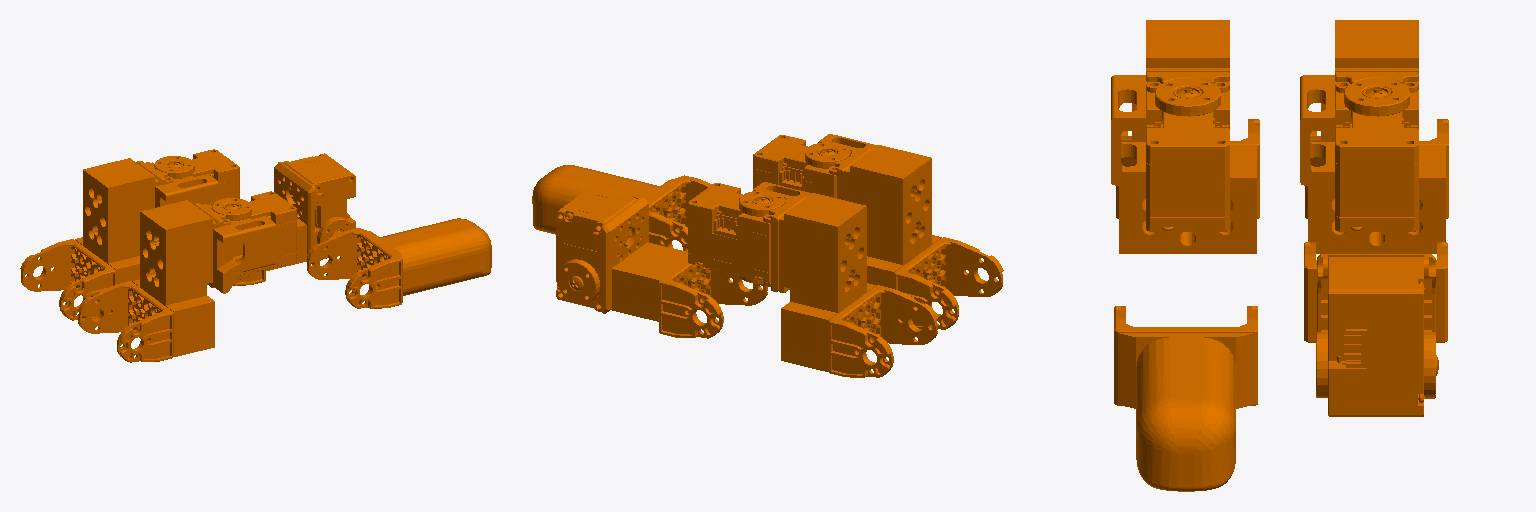
URDF robot description (onshape):
<robot name="onshape">
  <link name="palm_lower">
    <inertial>
      <origin xyz="0.0 0.0 0.0" rpy="0.0 -0.0 0.0"/>
      <mass value="0.237"/>
      <inertia ixx="0.000354094" ixy="-1.193e-06" ixz="-2.445e-06" iyy="0.000260915" iyz="-2.905e-06" izz="0.000529257"/>
    </inertial>
    <visual>
      <geometry>
        <mesh filename="../assets/leap/leap_hand/palm_lower.stl"/>
      </geometry>
      <origin xyz="-0.020095249652862544 0.025757756134899473 -0.034722403578460216" rpy="0.0 -0.0 0.0"/>
      <material name="palm_lower_material">
        <color rgba="0.6039215686274509 0.14901960784313725 0.14901960784313725 1.0"/>
      </material>
    </visual>
    <collision>
      <geometry>
        <mesh filename="../assets/leap/leap_hand/palm_lower.stl"/>
      </geometry>
      <origin xyz="-0.020095249652862544 0.025757756134899473 -0.034722403578460216" rpy="0.0 -0.0 0.0"/>
    </collision>
  </link>
  <link name="mcp_joint_long">
    <inertial>
      <origin xyz="0.0 0.0 0.0" rpy="0.0 -0.0 0.0"/>
      <mass value="0.044"/>
      <inertia ixx="1.1499e-05" ixy="3.049e-06" ixz="1.21e-07" iyy="7.796e-06" iyz="1.12e-07" izz="1.4759e-05"/>
    </inertial>
    <visual>
      <geometry>
        <mesh filename="custom_models/mcp_joint_long.stl"/>
      </geometry>
      <origin xyz="0.008406902261174496 0.0077662438597169954 0.014657354985032912" rpy="1.6375789613221e-15 -1.021047330249102e-30 1.7177968783327987e-31"/>
      <material name="mcp_joint_material">
        <color rgba="0.878 0.467 0.0 1.0"/>
      </material>
    </visual>
    <collision>
      <geometry>
        <mesh filename="custom_models/mcp_joint_long.stl"/>
      </geometry>
      <origin xyz="0.008406902261174496 0.0077662438597169954 0.014657354985032912" rpy="1.6375789613221e-15 -1.021047330249102e-30 1.7177968783327987e-31"/>
    </collision>
  </link>
  <link name="pip">
    <inertial>
      <origin xyz="0.0 0.0 0.0" rpy="0.0 -0.0 0.0"/>
      <mass value="0.032"/>
      <inertia ixx="4.798e-06" ixy="1.2e-08" ixz="4e-09" iyy="2.862e-06" iyz="1.1e-08" izz="4.234e-06"/>
    </inertial>
    <visual>
      <geometry>
        <mesh filename="../assets/leap/leap_hand/pip.stl"/>
      </geometry>
      <origin xyz="0.009643363092271328 0.0002999999999999895 0.0007840340104173765" rpy="-1.5707963267948966 -1.5707963267948963 0.0"/>
      <material name="pip_material">
        <color rgba="0.7490196078431373 0.7490196078431373 0.7490196078431373 1.0"/>
      </material>
    </visual>
    <collision>
      <geometry>
        <mesh filename="../assets/leap/leap_hand/pip.stl"/>
      </geometry>
      <origin xyz="0.009643363092271328 0.0002999999999999895 0.0007840340104173765" rpy="-1.5707963267948966 -1.5707963267948963 0.0"/>
    </collision>
  </link>
  <link name="dip_long">
    <inertial>
      <origin xyz="0.0 0.0 0.0" rpy="0.0 -0.0 0.0"/>
      <mass value="0.037"/>
      <inertia ixx="5.542e-06" ixy="-6.07e-07" ixz="-1.7e-08" iyy="5.727e-06" iyz="-2.3e-08" izz="6.682e-06"/>
    </inertial>
    <visual>
      <geometry>
        <mesh filename="custom_models/dip_long.stl"/>
      </geometry>
      <origin xyz="0.021133352895225003 -0.00843211914670488 0.00978508816209524" rpy="-3.141592653589793 4.507511124216441e-32 4.439548105392361e-32"/>
      <material name="dip_material">
        <color rgba="0.878 0.467 0.0 1.0"/>
      </material>
    </visual>
    <collision>
      <geometry>
        <mesh filename="custom_models/dip_long.stl"/>
      </geometry>
      <origin xyz="0.021133352895225003 -0.00843211914670488 0.00978508816209524" rpy="-3.141592653589793 4.507511124216441e-32 4.439548105392361e-32"/>
    </collision>
  </link>
  <link name="fingertip">
    <inertial>
      <origin xyz="0.0 0.0 0.0" rpy="0.0 -0.0 0.0"/>
      <mass value="0.016"/>
      <inertia ixx="3.368e-06" ixy="1.15e-07" ixz="0.0" iyy="1.556e-06" iyz="0.0" izz="2.863e-06"/>
    </inertial>
    <visual>
      <geometry>
        <mesh filename="../assets/leap/leap_hand/fingertip.stl"/>
      </geometry>
      <origin xyz="0.013286424108533503 -0.006114238386541987 0.014499999999999498" rpy="3.141592653589793 1.1993117970061735e-33 4.439548105392361e-32"/>
      <material name="fingertip_material">
        <color rgba="0.8666666666666667 0.8666666666666667 0.050980392156862744 1.0"/>
      </material>
    </visual>
    <collision>
      <geometry>
        <mesh filename="../assets/leap/leap_hand/fingertip.stl"/>
      </geometry>
      <origin xyz="0.013286424108533503 -0.006114238386541987 0.014499999999999498" rpy="3.141592653589793 1.1993117970061735e-33 4.439548105392361e-32"/>
    </collision>
  </link>
  <link name="pip_4">
    <inertial>
      <origin xyz="0.0 0.0 0.0" rpy="0.0 -0.0 0.0"/>
      <mass value="0.032"/>
      <inertia ixx="4.798e-06" ixy="1.2e-08" ixz="4e-09" iyy="2.862e-06" iyz="1.1e-08" izz="4.234e-06"/>
    </inertial>
    <visual>
      <geometry>
        <mesh filename="../assets/leap/leap_hand/pip.stl"/>
      </geometry>
      <origin xyz="-0.005356636907728671 0.0002999999999999999 0.0007840340104173782" rpy="-1.5707963267948966 -1.5707963267948963 0.0"/>
      <material name="pip_material">
        <color rgba="0.7490196078431373 0.7490196078431373 0.7490196078431373 1.0"/>
      </material>
    </visual>
    <collision>
      <geometry>
        <mesh filename="../assets/leap/leap_hand/pip.stl"/>
      </geometry>
      <origin xyz="-0.005356636907728671 0.0002999999999999999 0.0007840340104173782" rpy="-1.5707963267948966 -1.5707963267948963 0.0"/>
    </collision>
  </link>
  <link name="thumb_pip">
    <inertial>
      <origin xyz="0.0 0.0 0.0" rpy="0.0 -0.0 0.0"/>
      <mass value="0.003"/>
      <inertia ixx="5.93e-07" ixy="0.0" ixz="0.0" iyy="5.49e-07" iyz="0.0" izz="2.24e-07"/>
    </inertial>
    <visual>
      <geometry>
        <mesh filename="../assets/leap/leap_hand/thumb_pip.stl"/>
      </geometry>
      <origin xyz="0.011961920770611187 -5.30825383648903e-16 -0.0158526489566642" rpy="1.5707963267948966 1.6050198443300153e-46 -3.9204996250525193e-59"/>
      <material name="thumb_pip_material">
        <color rgba="0.8666666666666667 0.8666666666666667 0.050980392156862744 1.0"/>
      </material>
    </visual>
    <collision>
      <geometry>
        <mesh filename="../assets/leap/leap_hand/thumb_pip.stl"/>
      </geometry>
      <origin xyz="0.011961920770611187 -5.30825383648903e-16 -0.0158526489566642" rpy="1.5707963267948966 1.6050198443300153e-46 -3.9204996250525193e-59"/>
    </collision>
  </link>
  <link name="thumb_dip">
    <inertial>
      <origin xyz="0.0 0.0 0.0" rpy="0.0 -0.0 0.0"/>
      <mass value="0.038"/>
      <inertia ixx="8.474e-06" ixy="2.41e-07" ixz="2.6e-08" iyy="3.841e-06" iyz="2.5e-08" izz="7.679e-06"/>
    </inertial>
    <visual>
      <geometry>
        <mesh filename="../assets/leap/leap_hand/thumb_dip.stl"/>
      </geometry>
      <origin xyz="0.043968715707239175 0.0579529529737092 -0.008628676449369476" rpy="1.94289029309401e-16 3.27515792264422e-15 1.112375852965736e-46"/>
      <material name="thumb_dip_material">
        <color rgba="0.8666666666666667 0.8666666666666667 0.050980392156862744 1.0"/>
      </material>
    </visual>
    <collision>
      <geometry>
        <mesh filename="../assets/leap/leap_hand/thumb_dip.stl"/>
      </geometry>
      <origin xyz="0.043968715707239175 0.0579529529737092 -0.008628676449369476" rpy="1.94289029309401e-16 3.27515792264422e-15 1.112375852965736e-46"/>
    </collision>
  </link>
  <link name="thumb_fingertip">
    <inertial>
      <origin xyz="0.0 0.0 0.0" rpy="0.0 -0.0 0.0"/>
      <mass value="0.049"/>
      <inertia ixx="2.0372e-05" ixy="-4.89e-07" ixz="-3e-08" iyy="4.336e-06" iyz="-9.7e-08" izz="1.9845e-05"/>
    </inertial>
    <visual>
      <geometry>
        <mesh filename="../assets/leap/leap_hand/thumb_fingertip.stl"/>
      </geometry>
      <origin xyz="0.06255953846266739 0.07845968291139699 0.048992911807332215" rpy="4.379057701015637e-47 -3.33066907387547e-16 1.2042408677791935e-46"/>
      <material name="thumb_fingertip_material">
        <color rgba="0.6039215686274509 0.14901960784313725 0.14901960784313725 1.0"/>
      </material>
    </visual>
    <collision>
      <geometry>
        <mesh filename="../assets/leap/leap_hand/thumb_fingertip.stl"/>
      </geometry>
      <origin xyz="0.06255953846266739 0.07845968291139699 0.048992911807332215" rpy="4.379057701015637e-47 -3.33066907387547e-16 1.2042408677791935e-46"/>
    </collision>
  </link>
  <link name="mcp_joint_2_long">
    <inertial>
      <origin xyz="0.0 0.0 0.0" rpy="0.0 -0.0 0.0"/>
      <mass value="0.044"/>
      <inertia ixx="1.1499e-05" ixy="3.049e-06" ixz="1.21e-07" iyy="7.796e-06" iyz="1.12e-07" izz="1.4759e-05"/>
    </inertial>
    <visual>
      <geometry>
        <mesh filename="custom_models/mcp_joint_long.stl"/>
      </geometry>
      <origin xyz="0.008406902261174496 0.0077662438597169954 0.014657354985032914" rpy="1.6375789613221e-15 -1.0076465469034e-30 2.1209300131419907e-61"/>
      <material name="mcp_joint_material">
        <color rgba="0.878 0.467 0.0 1.0"/>
      </material>
    </visual>
    <collision>
      <geometry>
        <mesh filename="custom_models/mcp_joint_long.stl"/>
      </geometry>
      <origin xyz="0.008406902261174496 0.0077662438597169954 0.014657354985032914" rpy="1.6375789613221e-15 -1.0076465469034e-30 2.1209300131419907e-61"/>
    </collision>
  </link>
  <link name="pip_2">
    <inertial>
      <origin xyz="0.0 0.0 0.0" rpy="0.0 -0.0 0.0"/>
      <mass value="0.032"/>
      <inertia ixx="4.798e-06" ixy="1.2e-08" ixz="4e-09" iyy="2.862e-06" iyz="1.1e-08" izz="4.234e-06"/>
    </inertial>
    <visual>
      <geometry>
        <mesh filename="../assets/leap/leap_hand/pip.stl"/>
      </geometry>
      <origin xyz="0.009643363092271328 0.0002999999999999947 0.0007840340104173765" rpy="-1.5707963267948966 -1.5707963267948963 0.0"/>
      <material name="pip_material">
        <color rgba="0.7490196078431373 0.7490196078431373 0.7490196078431373 1.0"/>
      </material>
    </visual>
    <collision>
      <geometry>
        <mesh filename="../assets/leap/leap_hand/pip.stl"/>
      </geometry>
      <origin xyz="0.009643363092271328 0.0002999999999999947 0.0007840340104173765" rpy="-1.5707963267948966 -1.5707963267948963 0.0"/>
    </collision>
  </link>
  <link name="dip_2">
    <inertial>
      <origin xyz="0.0 0.0 0.0" rpy="0.0 -0.0 0.0"/>
      <mass value="0.037"/>
      <inertia ixx="5.542e-06" ixy="-6.07e-07" ixz="-1.7e-08" iyy="5.727e-06" iyz="-2.3e-08" izz="6.682e-06"/>
    </inertial>
    <visual>
      <geometry>
        <mesh filename="../assets/leap/leap_hand/dip.stl"/>
      </geometry>
      <origin xyz="0.021133352895225003 -0.008432119146704865 0.009785088162095237" rpy="-3.141592653589793 2.1146933785271956e-32 1.4408183216511869e-31"/>
      <material name="dip_material">
        <color rgba="0.8666666666666667 0.8666666666666667 0.050980392156862744 1.0"/>
      </material>
    </visual>
    <collision>
      <geometry>
        <mesh filename="../assets/leap/leap_hand/dip.stl"/>
      </geometry>
      <origin xyz="0.021133352895225003 -0.008432119146704865 0.009785088162095237" rpy="-3.141592653589793 2.1146933785271956e-32 1.4408183216511869e-31"/>
    </collision>
  </link>
  <link name="fingertip_2_long">
    <inertial>
      <origin xyz="0.0 0.0 0.0" rpy="0.0 -0.0 0.0"/>
      <mass value="0.016"/>
      <inertia ixx="3.368e-06" ixy="1.15e-07" ixz="0.0" iyy="1.556e-06" iyz="0.0" izz="2.863e-06"/>
    </inertial>
    <visual>
      <geometry>
        <mesh filename="custom_models/fingertip_long.stl"/>
      </geometry>
      <origin xyz="0.013286424108533496 -0.006114238386542001 0.014499999999999496" rpy="3.141592653589793 -4.317959788283594e-33 1.4408183216511869e-31"/>
      <material name="fingertip_material">
        <color rgba="0.878 0.467 0.0 1.0"/>
      </material>
    </visual>
    <collision>
      <geometry>
        <mesh filename="custom_models/fingertip_long.stl"/>
      </geometry>
      <origin xyz="0.013286424108533496 -0.006114238386542001 0.014499999999999496" rpy="3.141592653589793 -4.317959788283594e-33 1.4408183216511869e-31"/>
    </collision>
  </link>
  <link name="mcp_joint_3">
    <inertial>
      <origin xyz="0.0 0.0 0.0" rpy="0.0 -0.0 0.0"/>
      <mass value="0.044"/>
      <inertia ixx="1.1499e-05" ixy="3.049e-06" ixz="1.21e-07" iyy="7.796e-06" iyz="1.12e-07" izz="1.4759e-05"/>
    </inertial>
    <visual>
      <geometry>
        <mesh filename="../assets/leap/leap_hand/mcp_joint.stl"/>
      </geometry>
      <origin xyz="0.0084069022611745 0.007766243859716996 0.014657354985032914" rpy="1.6375789613221e-15 -1.0059504988632627e-30 5.729641584552035e-32"/>
      <material name="mcp_joint_material">
        <color rgba="0.8666666666666667 0.8666666666666667 0.050980392156862744 1.0"/>
      </material>
    </visual>
    <collision>
      <geometry>
        <mesh filename="../assets/leap/leap_hand/mcp_joint.stl"/>
      </geometry>
      <origin xyz="0.0084069022611745 0.007766243859716996 0.014657354985032914" rpy="1.6375789613221e-15 -1.0059504988632627e-30 5.729641584552035e-32"/>
    </collision>
  </link>
  <link name="pip_3">
    <inertial>
      <origin xyz="0.0 0.0 0.0" rpy="0.0 -0.0 0.0"/>
      <mass value="0.032"/>
      <inertia ixx="4.798e-06" ixy="1.2e-08" ixz="4e-09" iyy="2.862e-06" iyz="1.1e-08" izz="4.234e-06"/>
    </inertial>
    <visual>
      <geometry>
        <mesh filename="../assets/leap/leap_hand/pip.stl"/>
      </geometry>
      <origin xyz="0.009643363092271331 0.00029999999999998084 0.0007840340104173765" rpy="-1.5707963267948966 -1.5707963267948963 0.0"/>
      <material name="pip_material">
        <color rgba="0.7490196078431373 0.7490196078431373 0.7490196078431373 1.0"/>
      </material>
    </visual>
    <collision>
      <geometry>
        <mesh filename="../assets/leap/leap_hand/pip.stl"/>
      </geometry>
      <origin xyz="0.009643363092271331 0.00029999999999998084 0.0007840340104173765" rpy="-1.5707963267948966 -1.5707963267948963 0.0"/>
    </collision>
  </link>
  <link name="dip_3">
    <inertial>
      <origin xyz="0.0 0.0 0.0" rpy="0.0 -0.0 0.0"/>
      <mass value="0.037"/>
      <inertia ixx="5.542e-06" ixy="-6.07e-07" ixz="-1.7e-08" iyy="5.727e-06" iyz="-2.3e-08" izz="6.682e-06"/>
    </inertial>
    <visual>
      <geometry>
        <mesh filename="../assets/leap/leap_hand/dip.stl"/>
      </geometry>
      <origin xyz="0.021133352895225006 -0.008432119146704865 0.009785088162095237" rpy="-3.141592653589793 -1.4095651113919093e-33 1.5565411607615035e-32"/>
      <material name="dip_material">
        <color rgba="0.8666666666666667 0.8666666666666667 0.050980392156862744 1.0"/>
      </material>
    </visual>
    <collision>
      <geometry>
        <mesh filename="../assets/leap/leap_hand/dip.stl"/>
      </geometry>
      <origin xyz="0.021133352895225006 -0.008432119146704865 0.009785088162095237" rpy="-3.141592653589793 -1.4095651113919093e-33 1.5565411607615035e-32"/>
    </collision>
  </link>
  <link name="fingertip_3">
    <inertial>
      <origin xyz="0.0 0.0 0.0" rpy="0.0 -0.0 0.0"/>
      <mass value="0.016"/>
      <inertia ixx="3.368e-06" ixy="1.15e-07" ixz="0.0" iyy="1.556e-06" iyz="0.0" izz="2.863e-06"/>
    </inertial>
    <visual>
      <geometry>
        <mesh filename="../assets/leap/leap_hand/fingertip.stl"/>
      </geometry>
      <origin xyz="0.013286424108533501 -0.006114238386541987 0.0144999999999995" rpy="3.141592653589793 8.61707169505754e-33 1.5565411607615035e-32"/>
      <material name="fingertip_material">
        <color rgba="0.8666666666666667 0.8666666666666667 0.050980392156862744 1.0"/>
      </material>
    </visual>
    <collision>
      <geometry>
        <mesh filename="../assets/leap/leap_hand/fingertip.stl"/>
      </geometry>
      <origin xyz="0.013286424108533501 -0.006114238386541987 0.0144999999999995" rpy="3.141592653589793 8.61707169505754e-33 1.5565411607615035e-32"/>
    </collision>
  </link>
  <joint name="1" type="revolute">
    <parent link="palm_lower"/>
    <child link="mcp_joint_long"/>
    <origin xyz="-0.007095249652862546 0.023057756134899472 -0.01872240357846022" rpy="1.570796326794895 1.5707963267948946 0.0"/>
    <axis xyz="0.0 0.0 -1.0"/>
    <limit effort="0.95" velocity="8.48" lower="-0.314" upper="2.23"/>
  </joint>
  <joint name="0" type="revolute">
    <parent link="mcp_joint_long"/>
    <child link="pip"/>
    <origin xyz="-0.012200000000000007713 0.053099999999999994982 0.014500000000000000736" rpy="-1.5707963267948966 -1.0065212660796337e-15 1.5707963267948943"/>
    <axis xyz="0.0 0.0 -1.0"/>
    <limit effort="0.95" velocity="8.48" lower="-1.047" upper="1.047"/>
  </joint>
  <joint name="2" type="revolute">
    <parent link="pip"/>
    <child link="dip_long"/>
    <origin xyz="0.014999999999999968 0.014299999999999905 -0.012999999999999824" rpy="1.570796326794896 -1.5707963267948963 0.0"/>
    <axis xyz="0.0 0.0 -1.0"/>
    <limit effort="0.95" velocity="8.48" lower="-0.506" upper="1.885"/>
  </joint>
  <joint name="3" type="revolute">
    <parent link="dip_long"/>
    <child link="fingertip"/>
    <origin xyz="-4.0880582495572692636e-09 -0.051100004210367367397 0.00020000000000007858714" rpy="4.5935029425113685e-17 -2.8730071914463795e-16 4.439548105392361e-32"/>
    <axis xyz="0.0 0.0 -1.0"/>
    <limit effort="0.95" velocity="8.48" lower="-0.366" upper="2.042"/>
  </joint>
  <joint name="12" type="revolute">
    <parent link="palm_lower"/>
    <child link="pip_4"/>
    <origin xyz="-0.06939524965286253 -0.0012422438651005258 -0.021622403578460216" rpy="-8.238176646493942e-17 1.5707963267948957 0.0"/>
    <axis xyz="0.0 0.0 -1.0"/>
    <limit effort="0.95" velocity="8.48" lower="-0.349" upper="2.094"/>
  </joint>
  <joint name="13" type="revolute">
    <parent link="pip_4"/>
    <child link="thumb_pip"/>
    <origin xyz="-2.7755575615628914e-17 0.014300000000000005 -0.013000000000000012" rpy="1.570796326794896 -1.5707963267948963 0.0"/>
    <axis xyz="0.0 0.0 -1.0"/>
    <limit effort="0.95" velocity="8.48" lower="-0.47" upper="2.443"/>
  </joint>
  <joint name="14" type="revolute">
    <parent link="thumb_pip"/>
    <child link="thumb_dip"/>
    <origin xyz="0.0 0.014499999999999966 -0.017000000000000053" rpy="-1.5707963267948966 1.6050198443300131e-46 -1.9721522630516625e-31"/>
    <axis xyz="0.0 0.0 -1.0"/>
    <limit effort="0.95" velocity="8.48" lower="-1.2" upper="1.9"/>
  </joint>
  <joint name="15" type="revolute">
    <parent link="thumb_dip"/>
    <child link="thumb_fingertip"/>
    <origin xyz="-1.249000902703301e-16 0.046599999999999864 0.0001999999999999771" rpy="1.506395849149178e-44 5.423418723393526e-31 3.141592653589793"/>
    <axis xyz="0.0 0.0 -1.0"/>
    <limit effort="0.95" velocity="8.48" lower="-1.34" upper="1.88"/>
  </joint>
  <joint name="5" type="revolute">
    <parent link="palm_lower"/>
    <child link="mcp_joint_2_long"/>
    <origin xyz="-0.007095249652862546 -0.022392243865100525 -0.01872240357846022" rpy="1.570796326794895 1.5707963267948946 0.0"/>
    <axis xyz="0.0 0.0 -1.0"/>
    <limit effort="0.95" velocity="8.48" lower="-0.314" upper="2.23"/>
  </joint>
  <joint name="4" type="revolute">
    <parent link="mcp_joint_2_long"/>
    <child link="pip_2"/>
    <origin xyz="-0.012200000000000007713 0.053099999999999994982 0.014500000000000000736" rpy="-1.5707963267948966 -1.0065212660796337e-15 1.5707963267948943"/>
    <axis xyz="0.0 0.0 -1.0"/>
    <limit effort="0.95" velocity="8.48" lower="-1.047" upper="1.047"/>
  </joint>
  <joint name="6" type="revolute">
    <parent link="pip_2"/>
    <child link="dip_2"/>
    <origin xyz="0.014999999999999968 0.014299999999999905 -0.012999999999999824" rpy="1.570796326794896 -1.5707963267948963 0.0"/>
    <axis xyz="0.0 0.0 -1.0"/>
    <limit effort="0.95" velocity="8.48" lower="-0.506" upper="1.885"/>
  </joint>
  <joint name="7" type="revolute">
    <parent link="dip_2"/>
    <child link="fingertip_2_long"/>
    <origin xyz="-4.088058249557269e-09 -0.03610000421036737 0.0002000000000000786" rpy="4.5935029425113685e-17 -2.8730071914463795e-16 4.439548105392361e-32"/>
    <axis xyz="0.0 0.0 -1.0"/>
    <limit effort="0.95" velocity="8.48" lower="-0.366" upper="2.042"/>
  </joint>
  <joint name="9" type="revolute">
    <parent link="palm_lower"/>
    <child link="mcp_joint_3"/>
    <origin xyz="-0.007095249652862546 -0.06784224386510052 -0.01872240357846022" rpy="1.570796326794895 1.5707963267948946 0.0"/>
    <axis xyz="0.0 0.0 -1.0"/>
    <limit effort="0.95" velocity="8.48" lower="-0.314" upper="2.23"/>
  </joint>
  <joint name="8" type="revolute">
    <parent link="mcp_joint_3"/>
    <child link="pip_3"/>
    <origin xyz="-0.012200000000000008 0.038099999999999995 0.0145" rpy="-1.5707963267948966 -1.0065212660796337e-15 1.5707963267948943"/>
    <axis xyz="0.0 0.0 -1.0"/>
    <limit effort="0.95" velocity="8.48" lower="-1.047" upper="1.047"/>
  </joint>
  <joint name="10" type="revolute">
    <parent link="pip_3"/>
    <child link="dip_3"/>
    <origin xyz="0.014999999999999968 0.014299999999999905 -0.012999999999999824" rpy="1.570796326794896 -1.5707963267948963 0.0"/>
    <axis xyz="0.0 0.0 -1.0"/>
    <limit effort="0.95" velocity="8.48" lower="-0.506" upper="1.885"/>
  </joint>
  <joint name="11" type="revolute">
    <parent link="dip_3"/>
    <child link="fingertip_3"/>
    <origin xyz="-4.088058249557269e-09 -0.03610000421036737 0.0002000000000000786" rpy="4.5935029425113685e-17 -2.8730071914463795e-16 4.439548105392361e-32"/>
    <axis xyz="0.0 0.0 -1.0"/>
    <limit effort="0.95" velocity="8.48" lower="-0.366" upper="2.042"/>
  </joint>
</robot>

--- Facts derived from the render (not from the file) ---
Views: 3 orthographic renders of the robot side by side, from view 1: azimuth 30°, elevation 25°; view 2: azimuth 150°, elevation 25°; view 3: azimuth 270°, elevation 25°.
Model onshape with 17 links and 16 joints (16 revolute), rooted at palm_lower, posed every joint at zero.
Links seen in each view (by area): view 1: mcp_joint_2_long, mcp_joint_long, fingertip_2_long, dip_long; view 2: mcp_joint_long, mcp_joint_2_long, dip_long, fingertip_2_long; view 3: mcp_joint_2_long, mcp_joint_long, dip_long, fingertip_2_long.
Boxes of the visible links, box(x1,y1,x2,y2) form: mcp_joint_2_long: box(78, 191, 296, 362); mcp_joint_long: box(20, 149, 239, 320); fingertip_2_long: box(307, 218, 491, 308); dip_long: box(233, 153, 355, 285); mcp_joint_long: box(688, 182, 937, 377); mcp_joint_2_long: box(753, 134, 1003, 329); dip_long: box(556, 187, 767, 338); fingertip_2_long: box(532, 165, 711, 251); mcp_joint_2_long: box(1111, 20, 1259, 253); mcp_joint_long: box(1300, 20, 1448, 253); dip_long: box(1304, 242, 1447, 416); fingertip_2_long: box(1114, 306, 1257, 491).
Bounding box of the posed robot: 0.1766 × 0.0812 × 0.0549 m (x, y, z).
4 mesh visuals loaded from 11 distinct referenced files (3 binary STL); not drawn: 13 (reference not matched to a file when rendering).